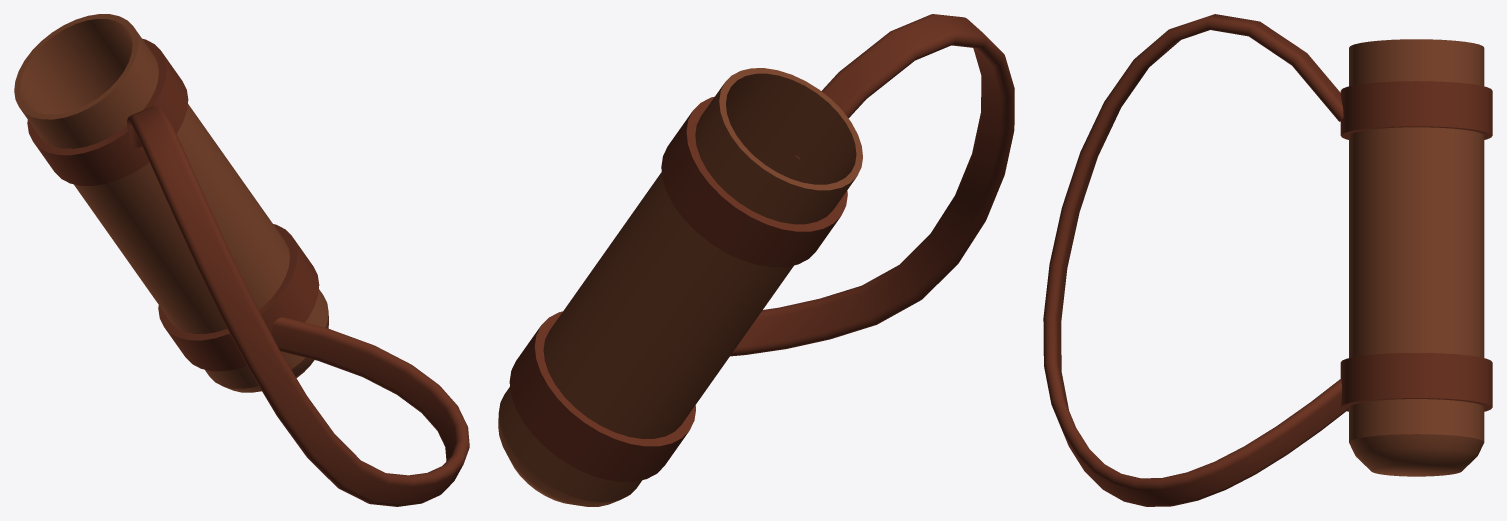
The model's file is Tempat Arrow.fbx.
3 renders of one model, left to right at view 1: azimuth 30°, elevation 25°; view 2: azimuth 150°, elevation 25°; view 3: azimuth 270°, elevation 25°, orthographic. The views are drawn at different scales.
Parts seen in each view (by area): view 1: Cylinder, BezierCurve; view 2: Cylinder, BezierCurve; view 3: Cylinder, BezierCurve.
Boxes of the visible parts, box(x1,y1,x2,y2) form: Cylinder: box(14, 14, 328, 392); BezierCurve: box(127, 106, 469, 506); Cylinder: box(498, 68, 862, 506); BezierCurve: box(730, 14, 1014, 356); Cylinder: box(1340, 39, 1492, 476); BezierCurve: box(1043, 14, 1348, 506).
Bounding box in the file's own units: 55.25 × 66.05 × 70.42.
